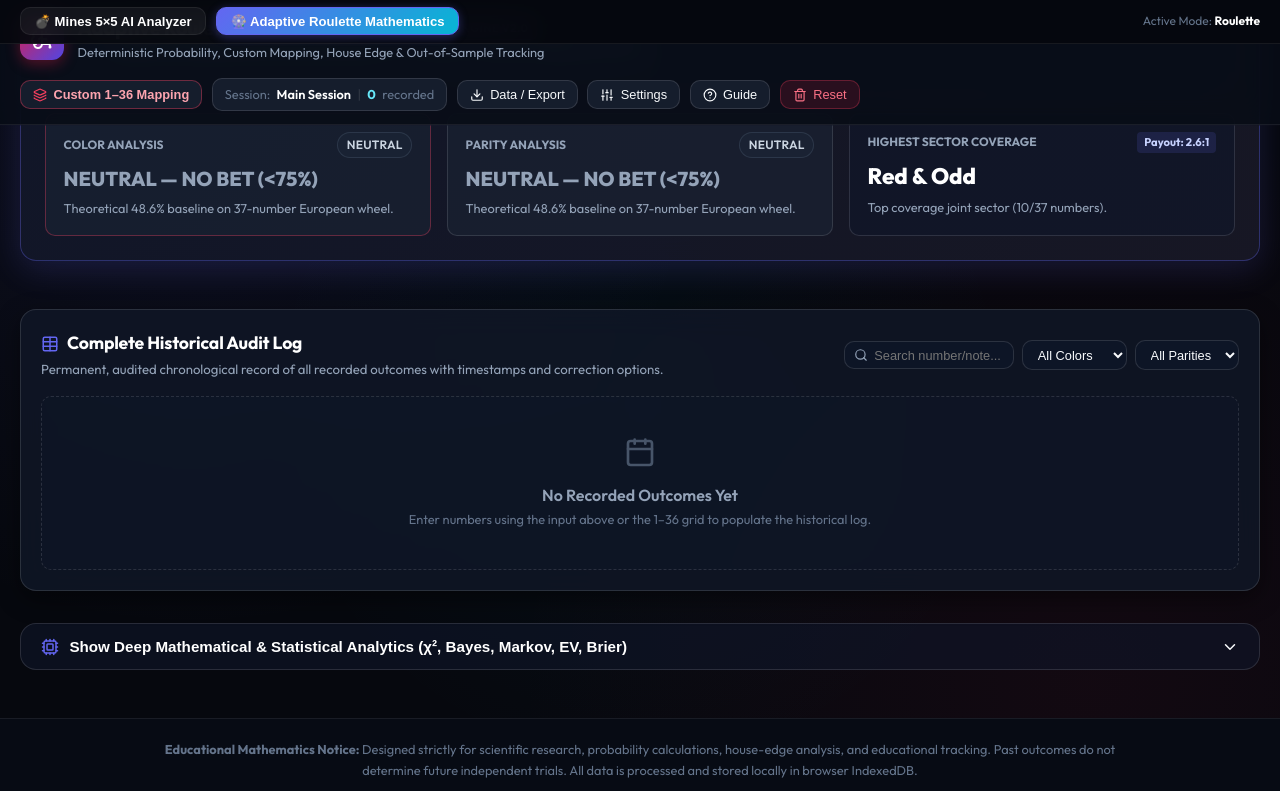
Test: Test 20: UI Workflow & Responsiveness › Maintains usability at desktop viewport widths (1440px)
(page scrolled)
Expected: the heading "Adaptive Roulette Mathematics" is shown, [78,14,361,44]
Note: Toggle advanced math analytics
Click the button "Show Deep Mathematical" at (348, 647), box [20,623,1260,670]
(page scrolled)
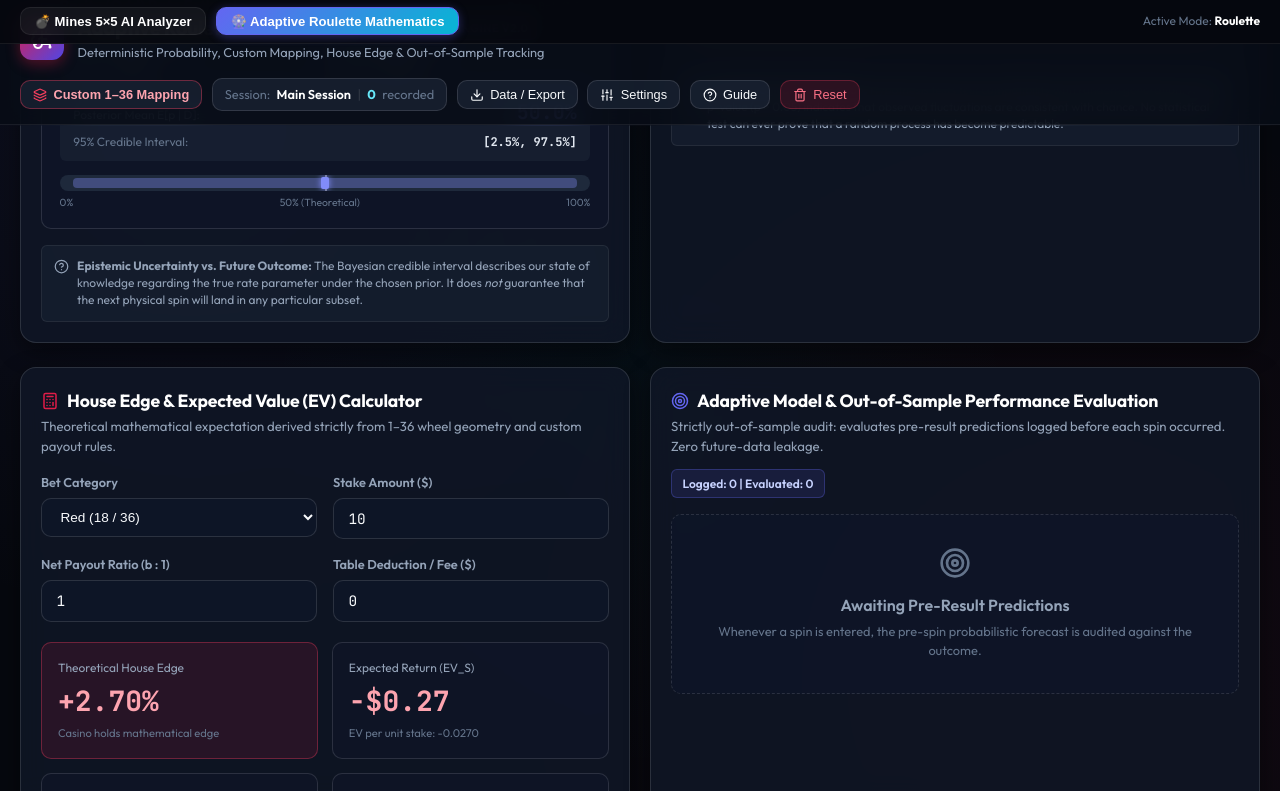
Expected: the text "House Edge & Expected Value (EV) Calculator" is shown, [67,388,422,414]
